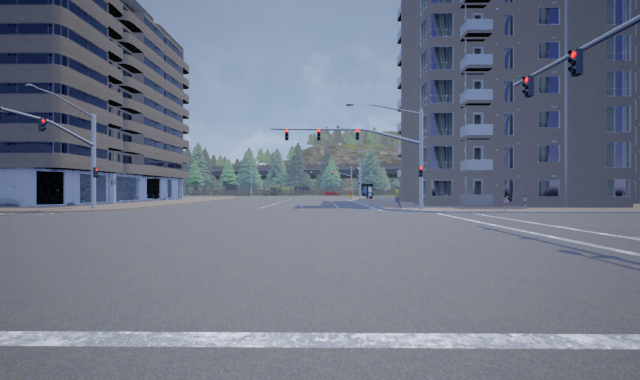pedestrian: (392, 185, 404, 208), (500, 195, 511, 210), (520, 194, 530, 208), (499, 194, 508, 208)
traffic_light: (567, 49, 584, 77), (521, 73, 534, 98), (38, 117, 47, 132), (316, 128, 322, 141), (417, 164, 423, 176), (284, 127, 289, 140), (354, 127, 359, 139), (92, 166, 97, 176)
